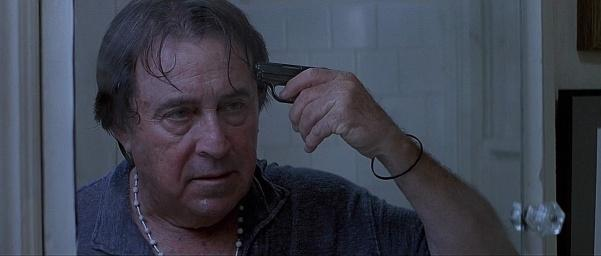Gun: (253, 61, 326, 103)
